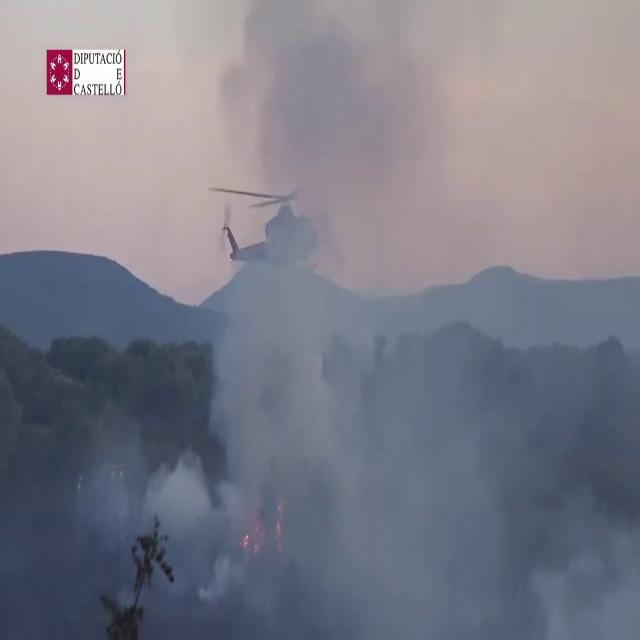Smoke: (162, 74, 640, 640)
